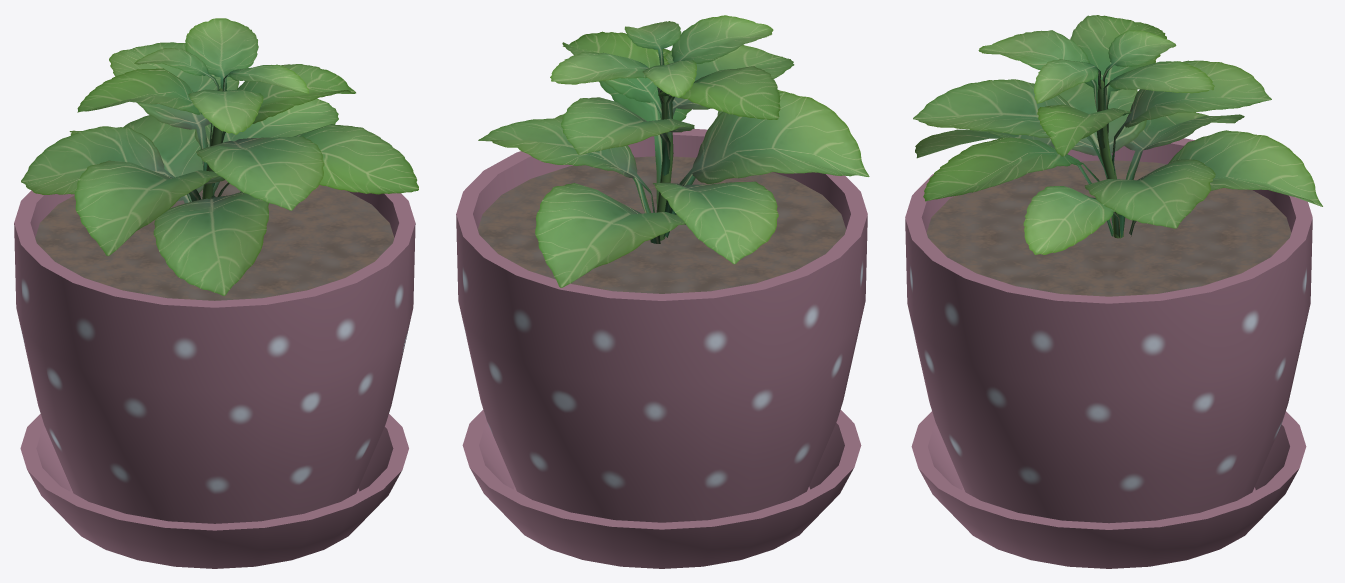
The model's file is basil2.glb.
3 renders of one model, left to right at view 1: azimuth 30°, elevation 25°; view 2: azimuth 150°, elevation 25°; view 3: azimuth 270°, elevation 25°, orthographic. The views are drawn at different scales.
Visible parts, largest first — view 1: Pot.001, Basil_B.002; view 2: Pot.001, Basil_B.002; view 3: Pot.001, Basil_B.002.
Boxes of the visible parts, x1=… form: Pot.001: x1=14, y1=179, x2=415, y2=568; Basil_B.002: x1=21, y1=18, x2=418, y2=295; Pot.001: x1=456, y1=129, x2=867, y2=568; Basil_B.002: x1=478, y1=15, x2=869, y2=287; Pot.001: x1=905, y1=138, x2=1312, y2=568; Basil_B.002: x1=913, y1=15, x2=1322, y2=254.
Bounding box in the file's own units: 2.33 × 2.84 × 2.43.
2 materials, 2 textured.
